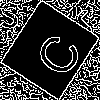C: (25, 25, 85, 81)
